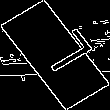L_SW: (21, 28, 89, 82)
